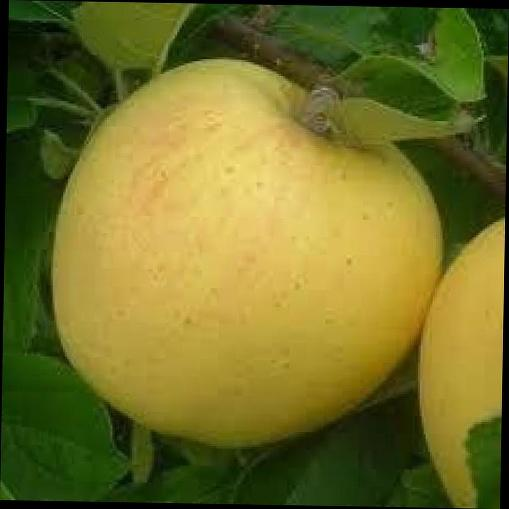green apple: (34, 53, 443, 456)
